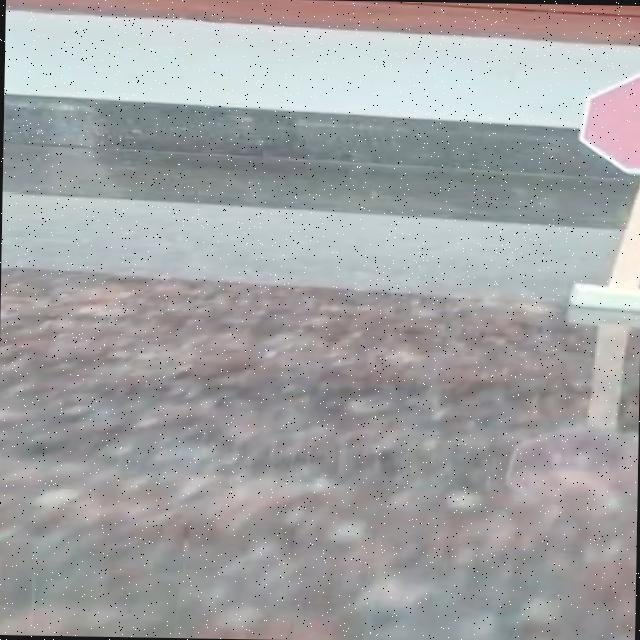Stop: (552, 56, 640, 190)
